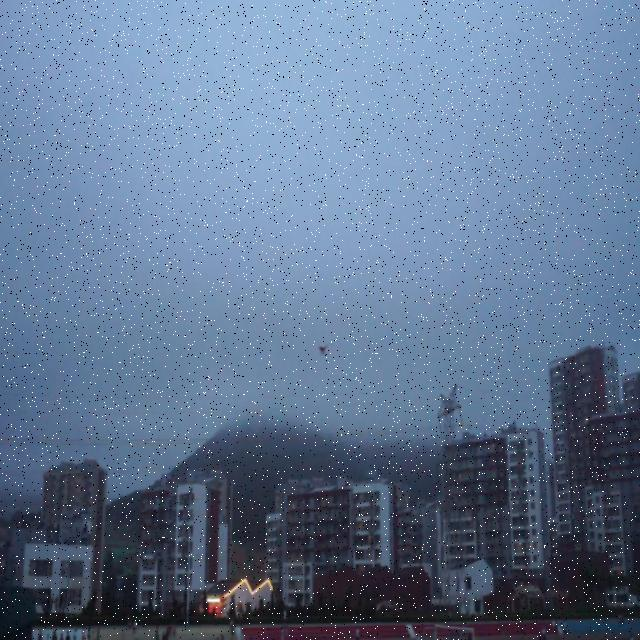UAV: (317, 344, 328, 356)
